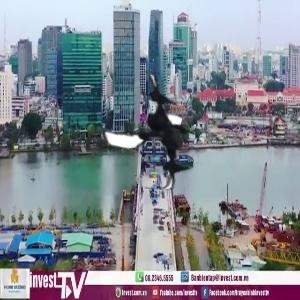drone: (98, 75, 214, 191)
